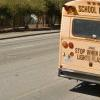Bus: (54, 1, 100, 100)
